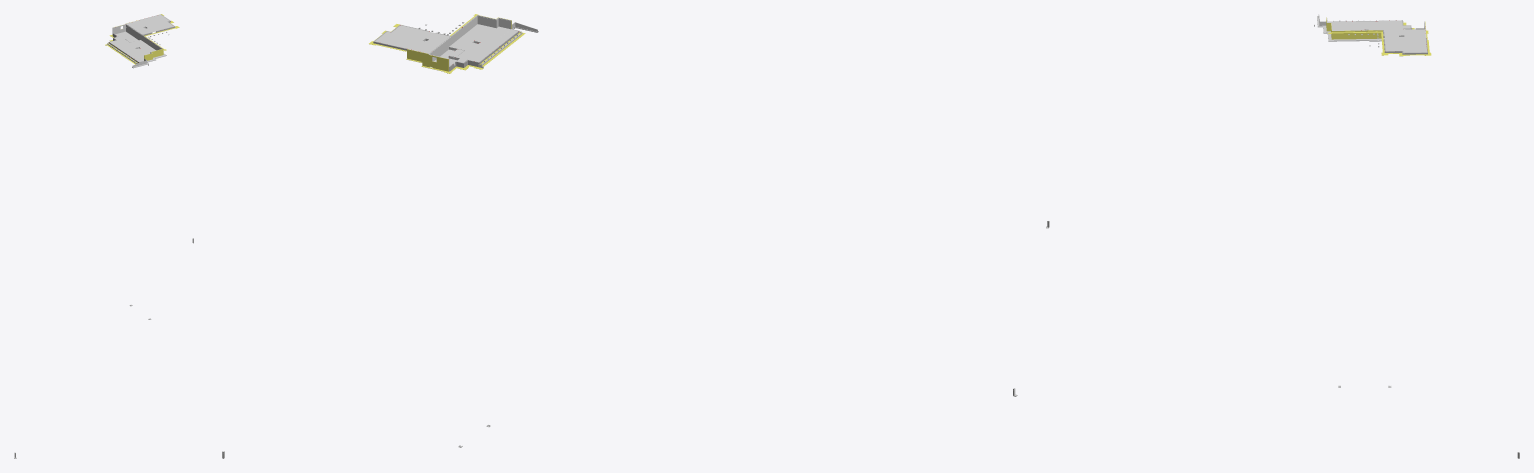
File: RIB_3D_v12.dae
3 views of the same model, side by side, from view 1: azimuth 30°, elevation 25°; view 2: azimuth 150°, elevation 25°; view 3: azimuth 270°, elevation 25° (orthographic). The views are drawn at different scales.
Parts seen in each view (by area): view 1: IfcSlab/Floor:Gulv på grunn 100mm:799801, IfcSlab/Floor:Gulv på grunn 100mm:802700; view 2: IfcSlab/Floor:Gulv på grunn 100mm:799801, IfcSlab/Floor:Gulv på grunn 100mm:802700; view 3: IfcSlab/Floor:Gulv på grunn 100mm:802700, IfcSlab/Floor:Gulv på grunn 100mm:799801.
Boxes of the visible parts, x1,y1,x2,y2 form: IfcSlab/Floor:Gulv på grunn 100mm:799801: (110,37,155,61); IfcSlab/Floor:Gulv på grunn 100mm:802700: (126,14,173,34); IfcSlab/Floor:Gulv på grunn 100mm:799801: (449,24,517,62); IfcSlab/Floor:Gulv på grunn 100mm:802700: (375,25,450,53); IfcSlab/Floor:Gulv på grunn 100mm:802700: (1384,29,1426,52); IfcSlab/Floor:Gulv på grunn 100mm:799801: (1327,20,1410,30).
Bounding box in the file's own units: 244 × 210 × 178.
